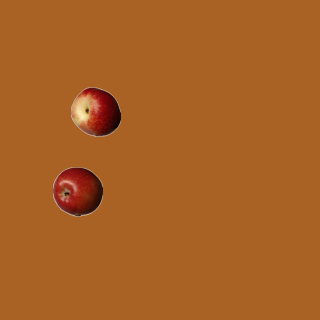Apple Braeburn: (52, 166, 102, 216)
Nectarine: (70, 86, 120, 136)
